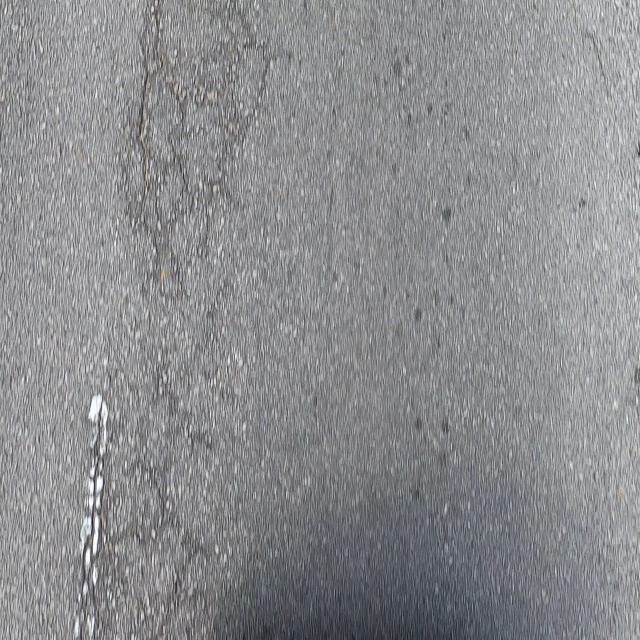Retak-Buaya: (130, 0, 280, 311), (124, 356, 223, 636)
Retak-Memanjang: (70, 396, 113, 640)
